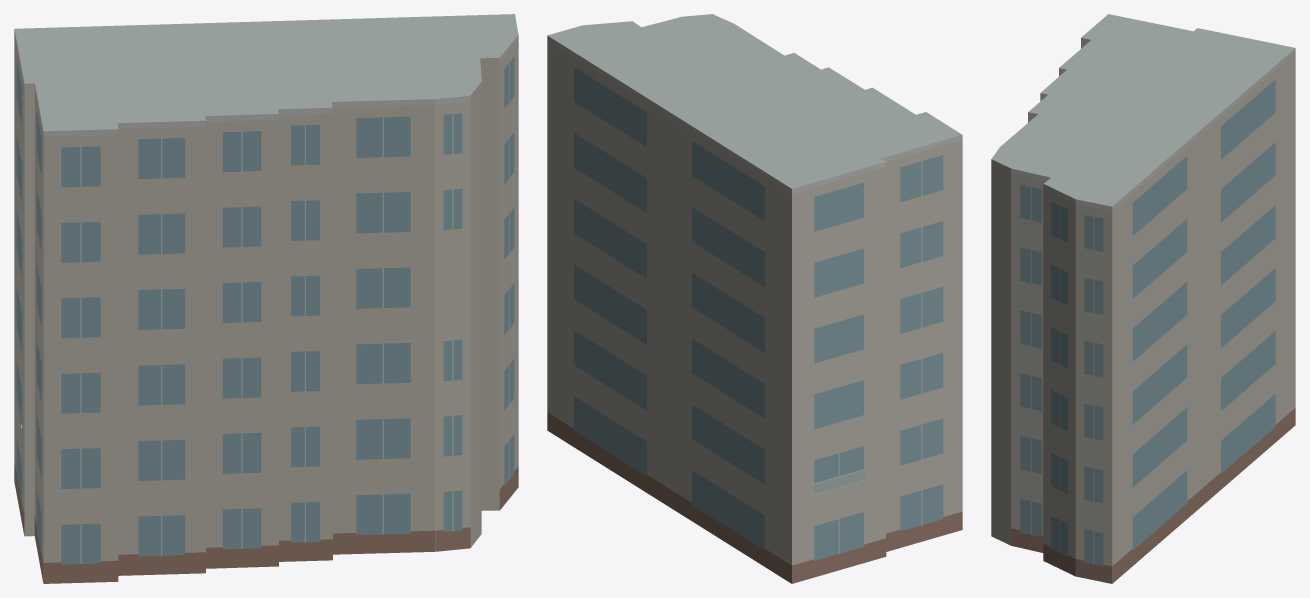
Rendered from survey-upis-32985385.glb.
3 renders of one model, left to right at view 1: azimuth 30°, elevation 25°; view 2: azimuth 150°, elevation 25°; view 3: azimuth 270°, elevation 25°, orthographic. The views are drawn at different scales.
Visible parts, largest first — view 1: survey-upis-32985385.tmp; view 2: survey-upis-32985385.tmp; view 3: survey-upis-32985385.tmp.
Part boxes in pixels (x1,y1,x2,y2): survey-upis-32985385.tmp: (14,14,518,583); survey-upis-32985385.tmp: (547,14,962,583); survey-upis-32985385.tmp: (991,14,1295,583).
Bounding box in the file's own units: 20.38 × 18.6 × 13.61.
